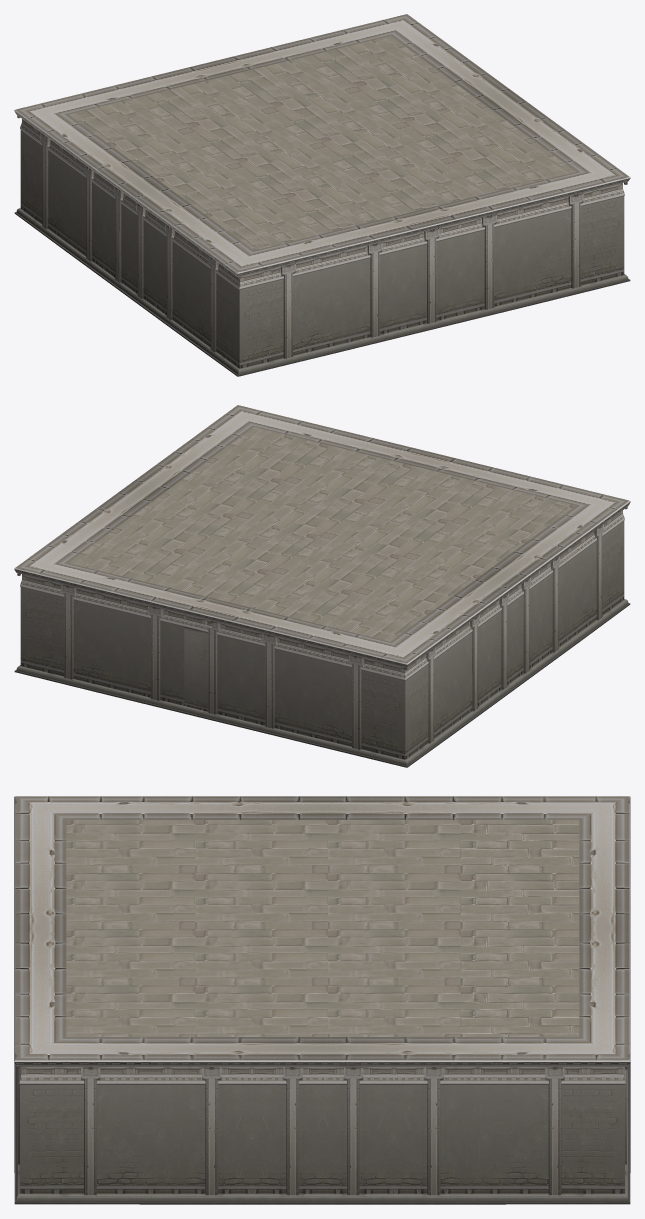
File: mod_zlc_jianzhu069_xy01.FBX
The picture shows the model from 3 angles, top to bottom: view 1: azimuth 30°, elevation 25°; view 2: azimuth 150°, elevation 25°; view 3: azimuth 270°, elevation 25°; orthographic projection. The views are drawn at different scales.
Visible parts, largest first — view 1: mod_zlc_jianzhu069_xy01; view 2: mod_zlc_jianzhu069_xy01; view 3: mod_zlc_jianzhu069_xy01.
Part boxes in pixels (x1,y1,x2,y2): mod_zlc_jianzhu069_xy01: [14, 14, 630, 376]; mod_zlc_jianzhu069_xy01: [14, 405, 630, 767]; mod_zlc_jianzhu069_xy01: [14, 796, 630, 1204].
Size of the model in its own units: 2444 by 618 by 2405.
Materials: 2 (2 with a texture image).
